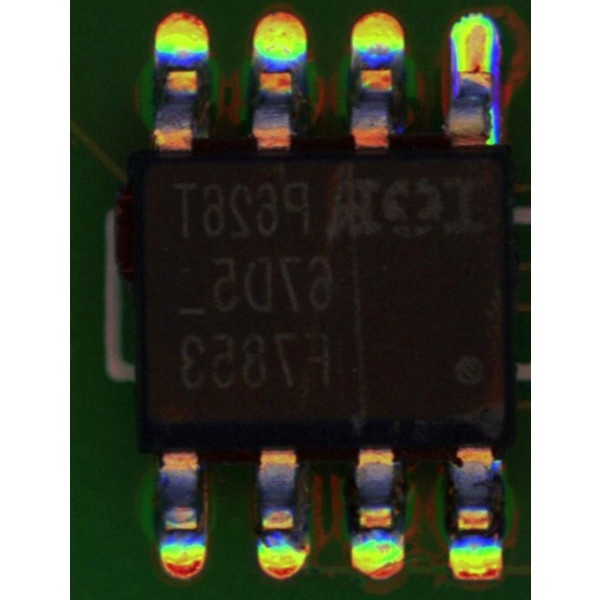Bad_podu: (465, 50, 485, 80)
